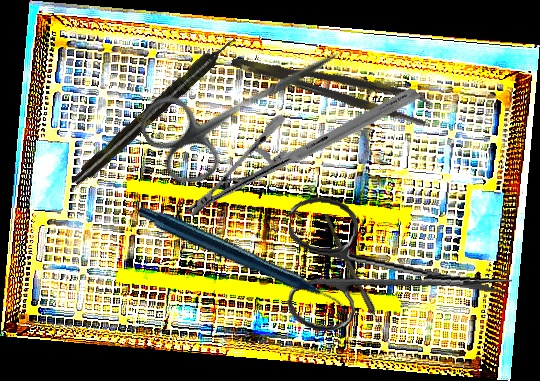Handpiece: (134, 144, 349, 381), (68, 32, 241, 190)
Iris Scissors: (131, 9, 361, 197), (278, 194, 519, 350)
Needle Holder: (183, 20, 421, 285)
Surgical Spoon: (321, 213, 394, 348)
Tissue Forceps: (229, 39, 434, 128)
